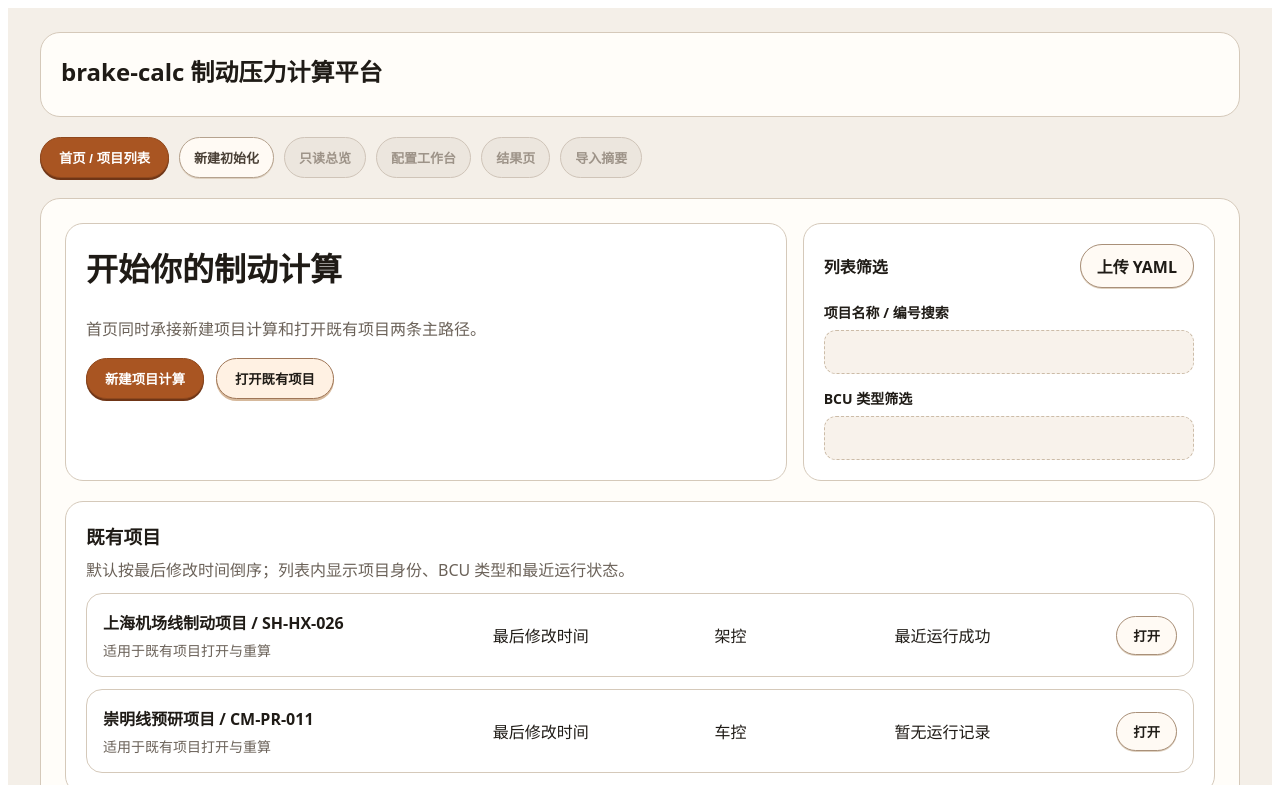
Scenario: App shell › shows one active workbench section at a time and switches through the left navigation
Click the button "首页 / 项目列表". click: (105, 158)
box: [40,137,169,178]
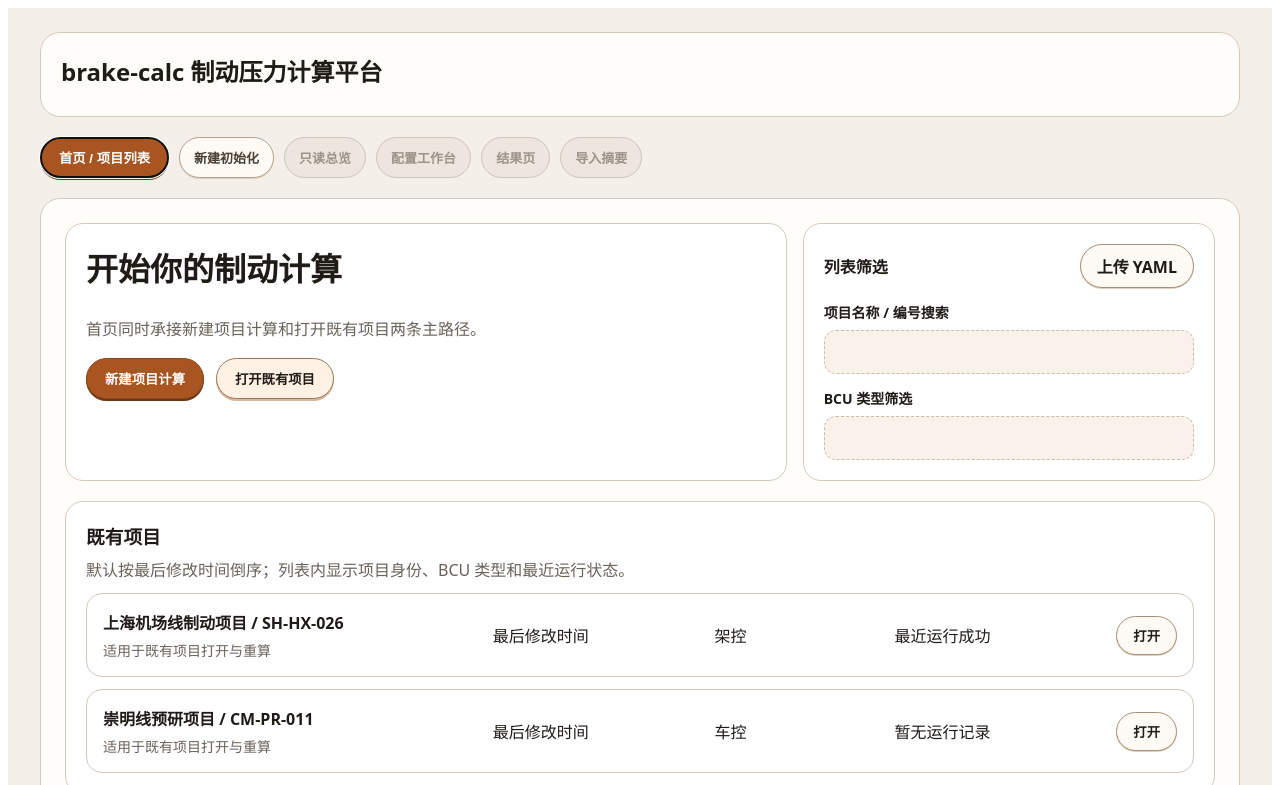
Click the button "打开既有项目". click: (275, 379)
box: [216,358,334,399]
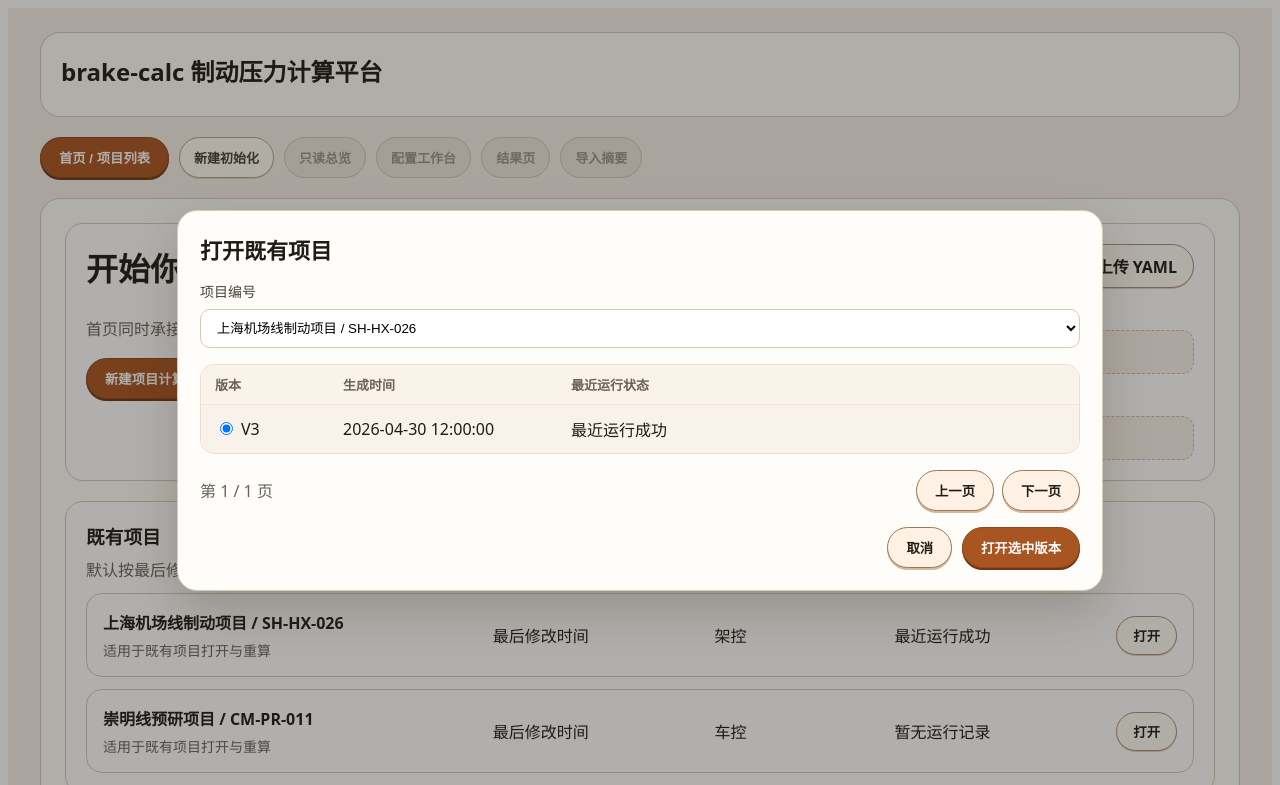
Click the button "打开选中版本". click: (1021, 547)
box: [962,526,1080,568]
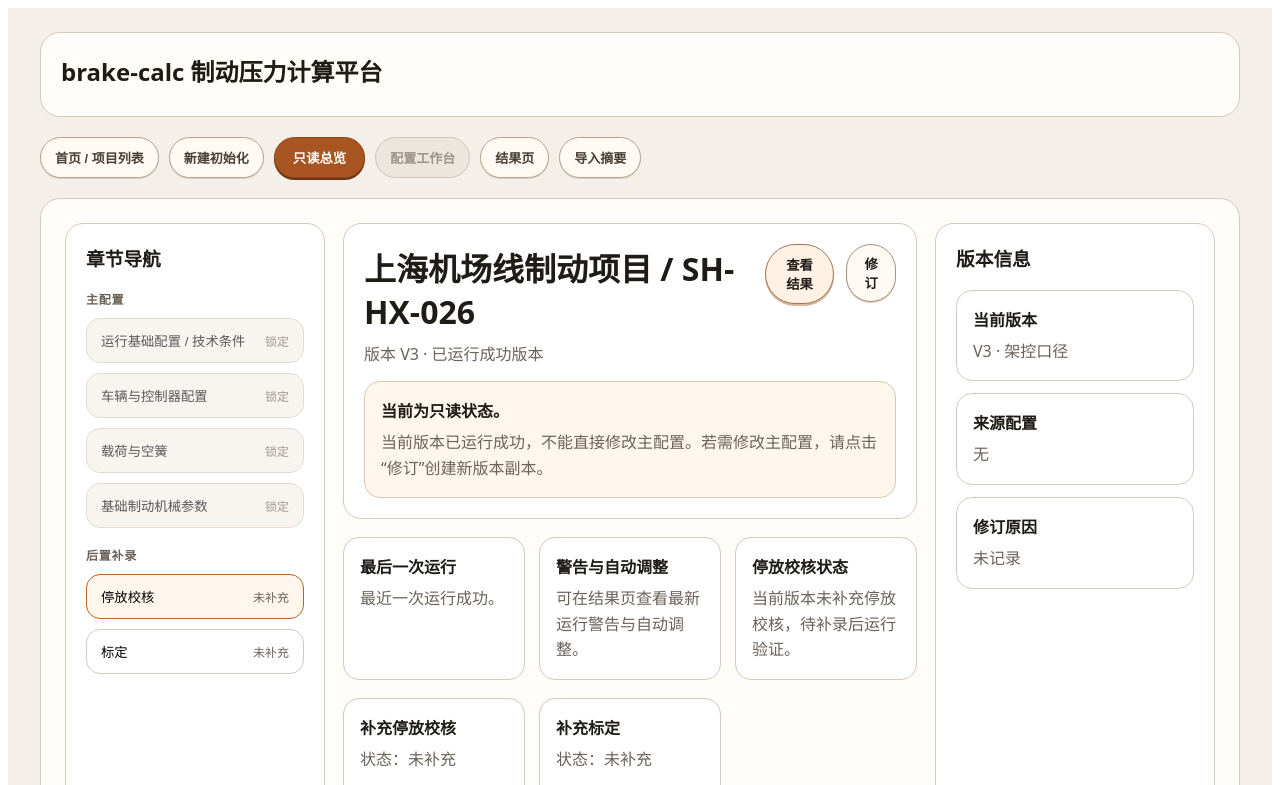
Now the button "修订" is shown
Click the button "修订". click: (871, 273)
box: [846,244,896,302]
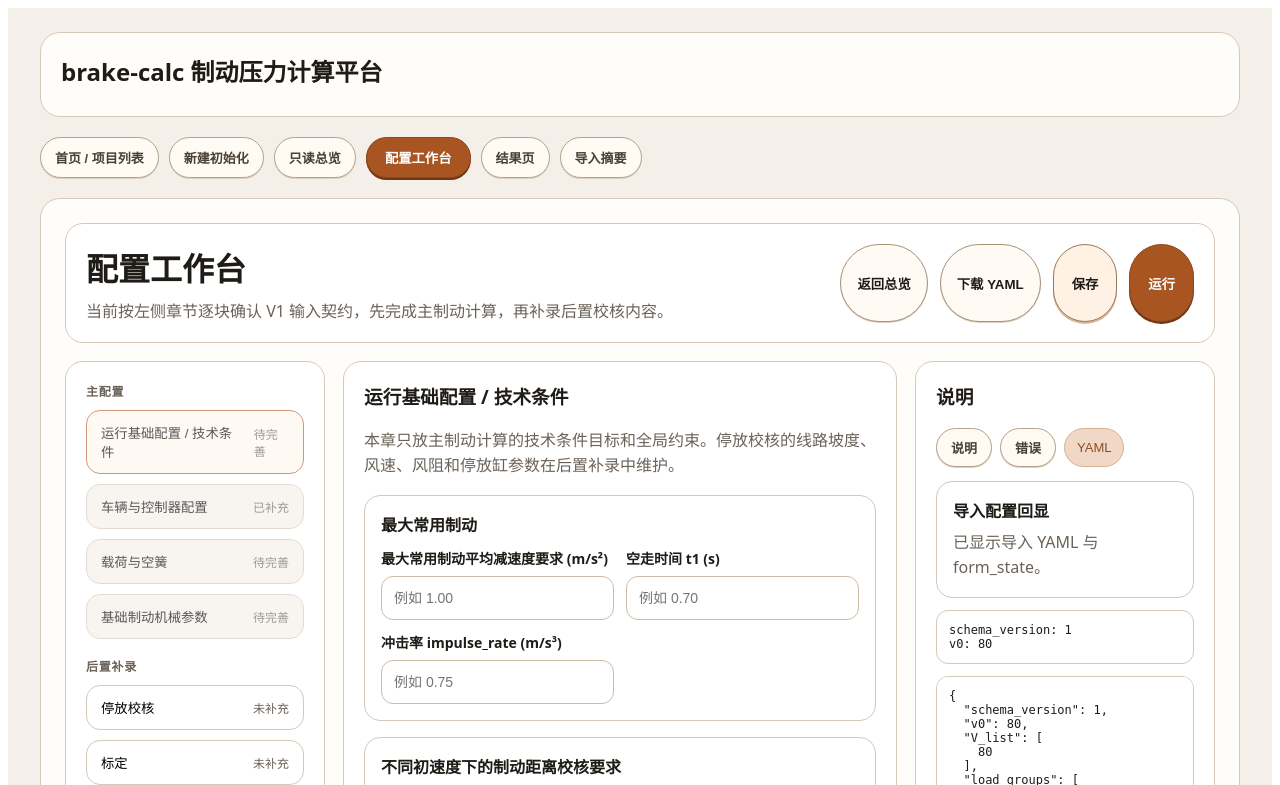
Click the button "载荷与空簧 待完善". click: (195, 562)
box: [86,539,304,584]
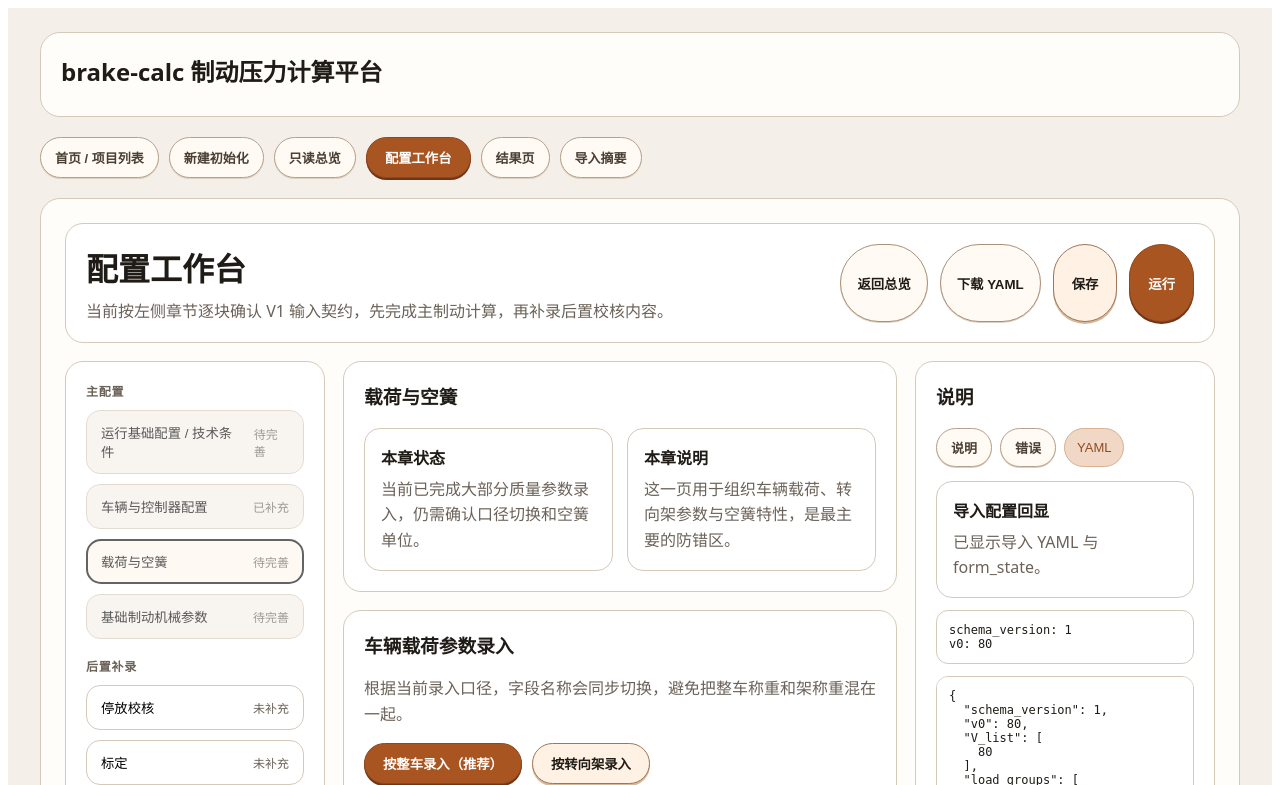
Now the heading "载荷与空簧" is shown, box [364,384,458,409]
Click the button "停放校核 未补充". click: (195, 708)
box: [86,685,304,730]
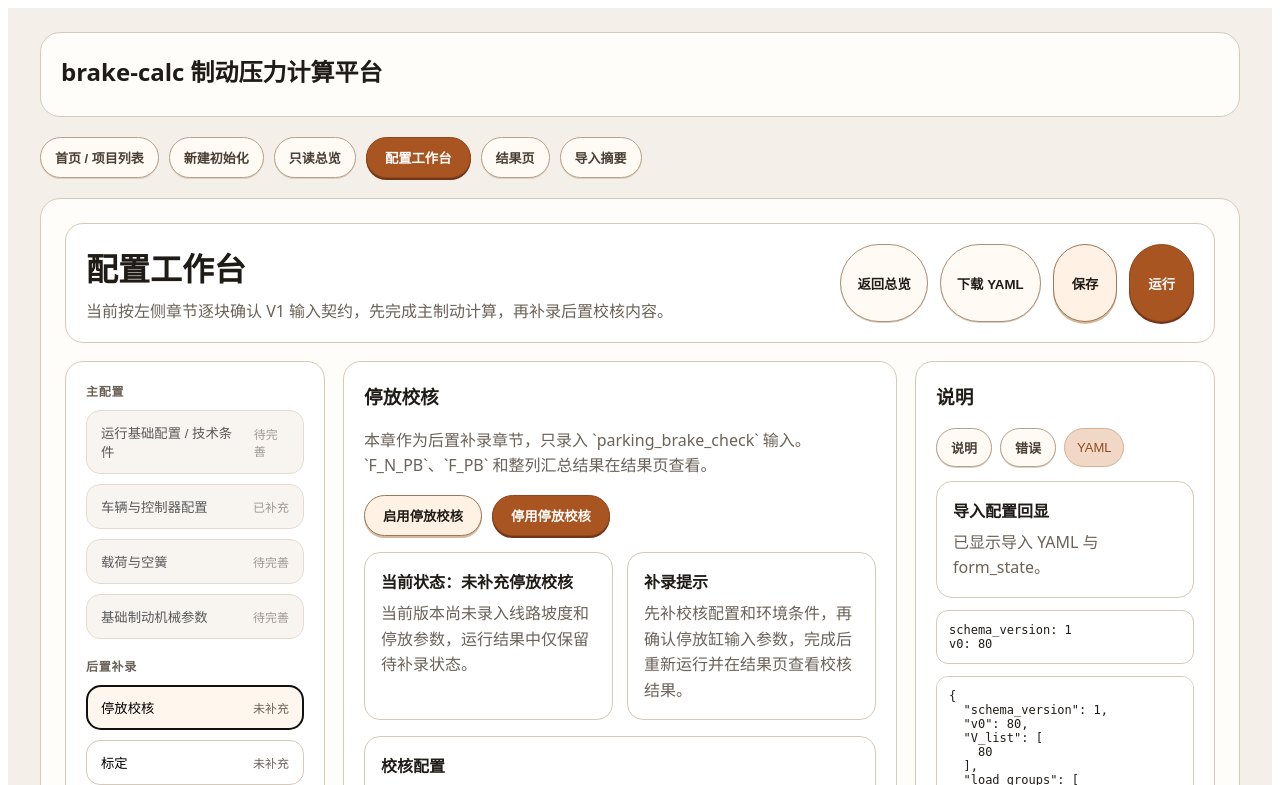
Now the heading "停放校核" is shown, box [364,384,439,409]
